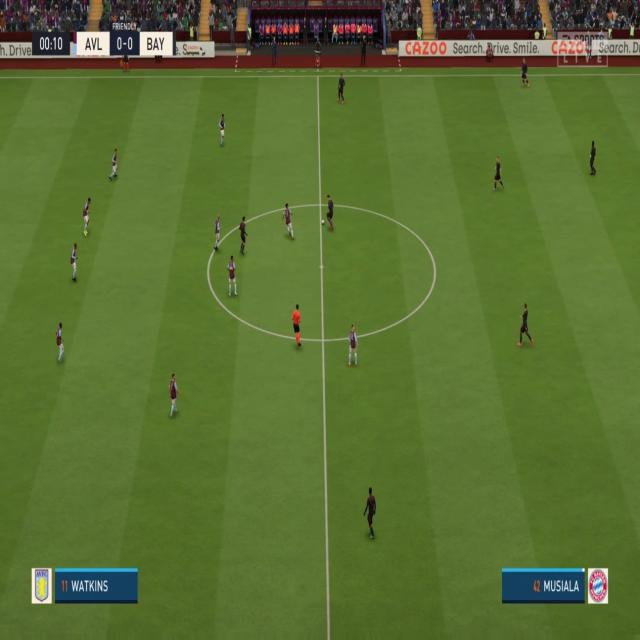Ball: (322, 220, 324, 225)
Referee: (291, 304, 302, 348)
Team-A: (363, 486, 378, 538), (517, 303, 534, 347), (492, 155, 506, 191), (238, 216, 248, 256), (337, 72, 347, 105), (326, 194, 334, 230), (589, 141, 597, 176), (521, 58, 530, 87)
Team-H: (168, 374, 181, 420), (227, 255, 238, 298), (282, 203, 294, 241), (348, 324, 358, 367), (55, 322, 65, 364), (70, 242, 80, 283), (82, 198, 91, 237), (108, 148, 118, 182), (213, 215, 222, 252), (219, 113, 226, 148)
